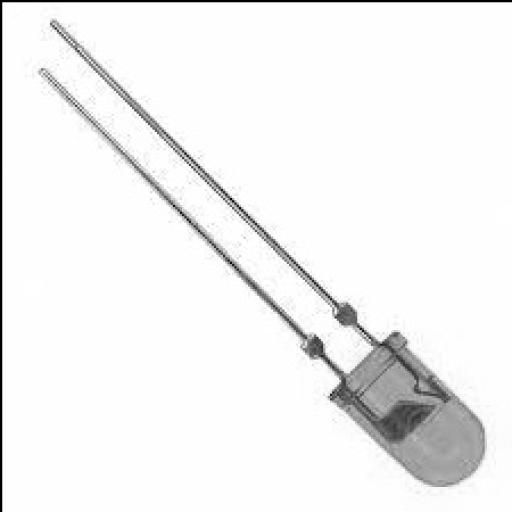LED: (130, 108, 496, 499)
